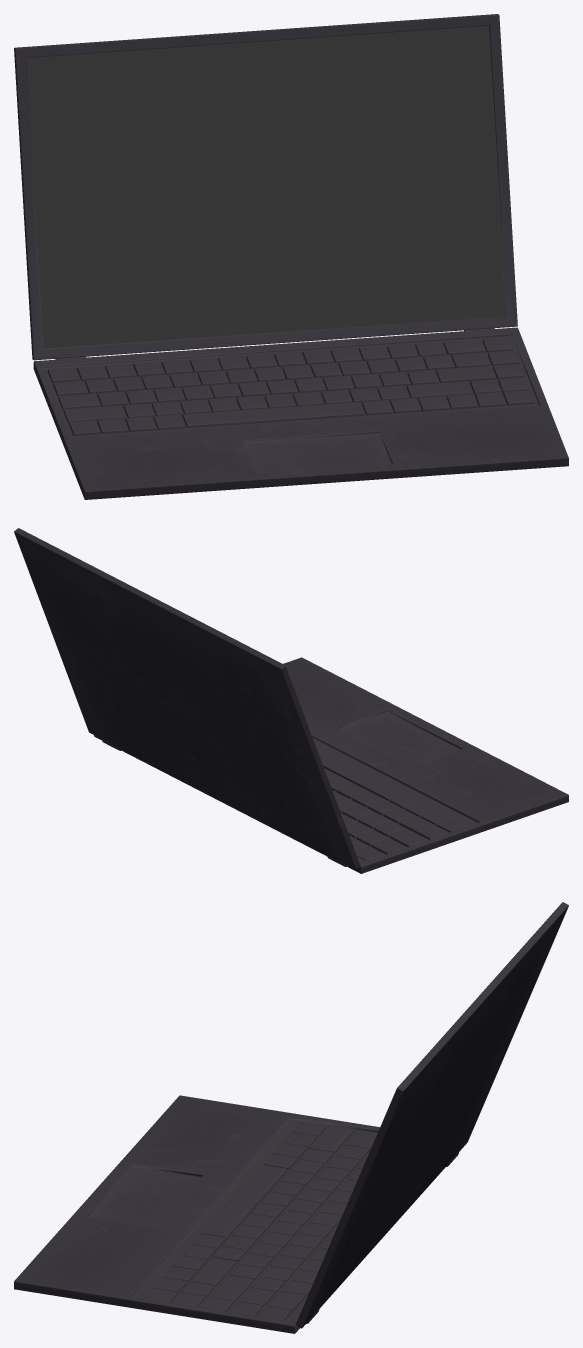
Rendered from laptop.glb.
3 renders of one model, top to bottom at view 1: azimuth 30°, elevation 25°; view 2: azimuth 150°, elevation 25°; view 3: azimuth 270°, elevation 25°, orthographic. The views are drawn at different scales.
Visible parts, largest first — view 1: laptop; view 2: laptop; view 3: laptop.
Boxes of the visible parts, x1,y1,x2,y2 form: laptop: [14, 14, 568, 499]; laptop: [14, 528, 568, 873]; laptop: [14, 902, 568, 1333].
Bounding box in the file's own units: 0.2578 × 0.1273 × 0.2438.
Materials: 1 (1 with a texture image).
